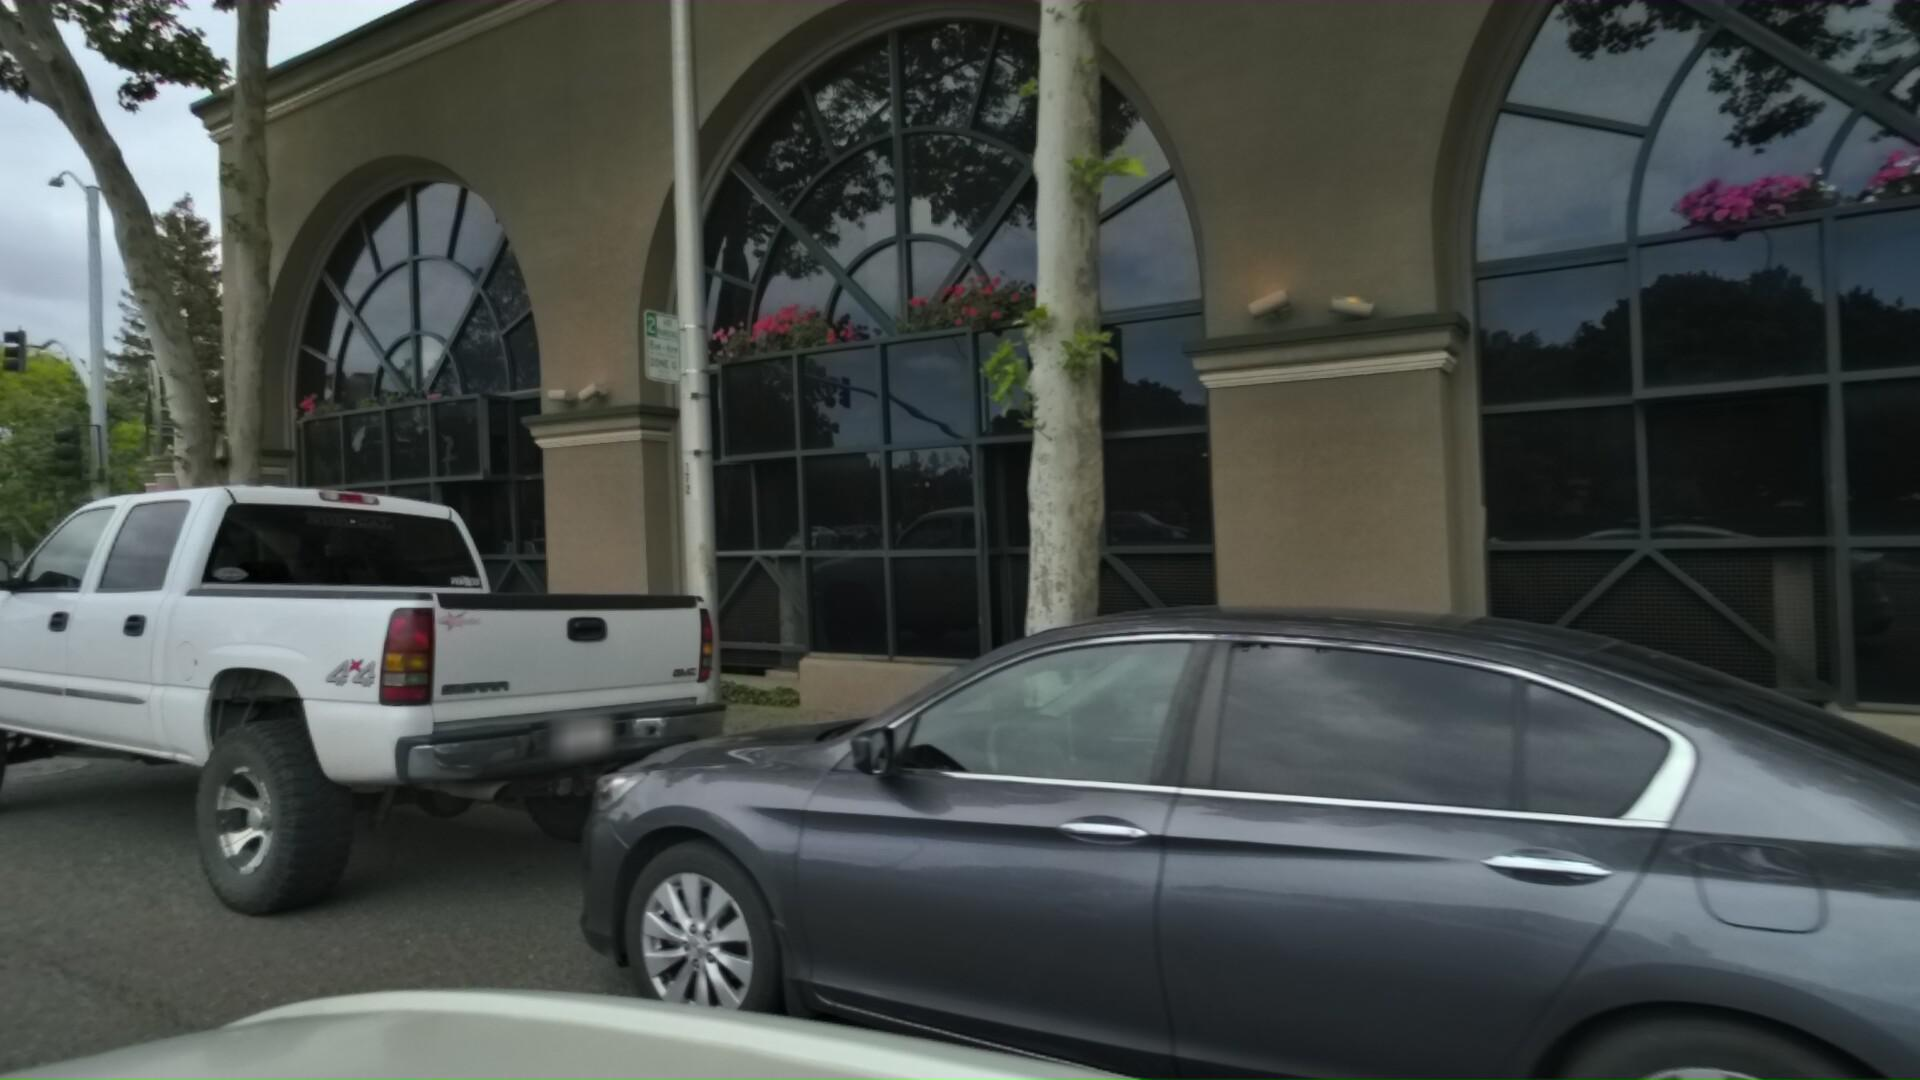bicycle: (0, 554, 76, 622)
car: (553, 566, 1920, 1080), (0, 442, 829, 1042), (0, 553, 75, 615)
